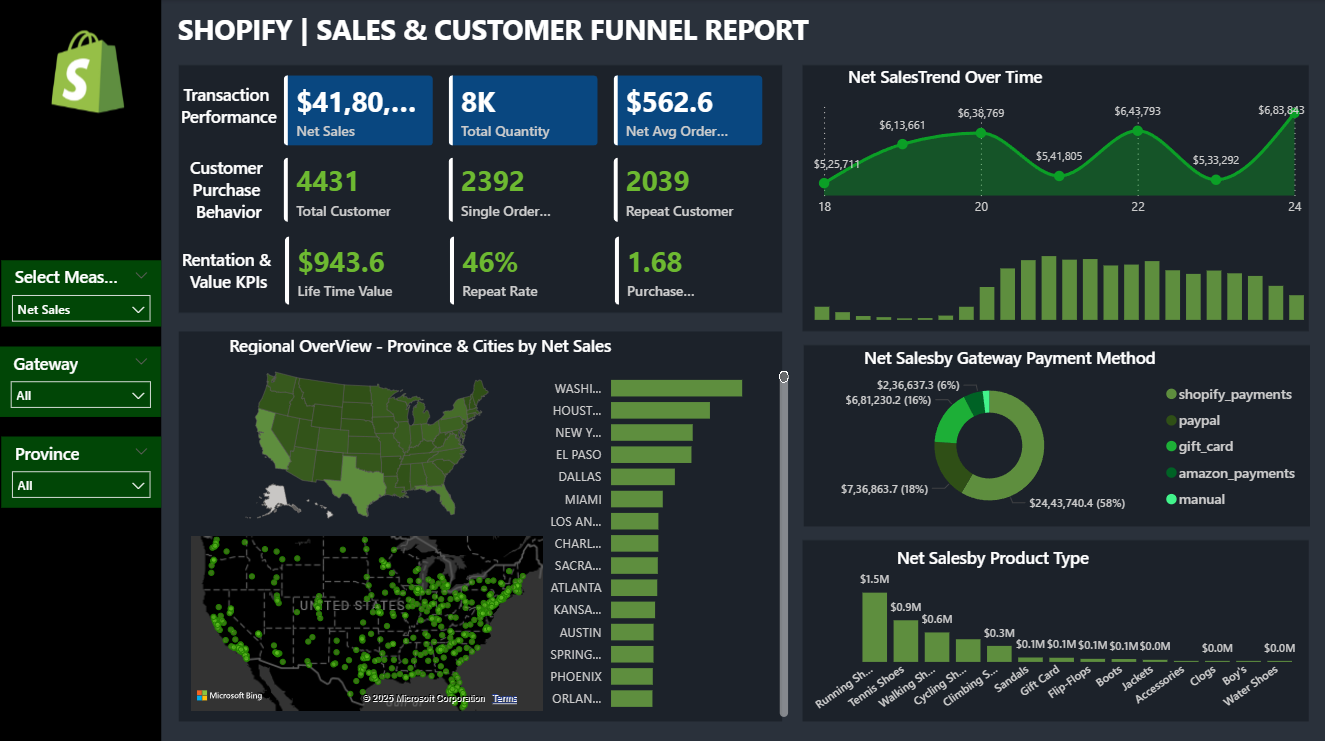

This screenshot's page, from the dashboard's own definition file:
{"tool":"powerbi","page":{"name":"Page 1","canvas":[1280,720],"ordinal":0},"visuals":[{"type":"textbox","box":[166.5,6,824,56.7],"z":0},{"type":"cardVisual","fields":{"Data":["shopify_sales.net sales","shopify_sales.total quantity","shopify_sales.net avg order value"]},"box":[256.8,56.8,498.8,102.5],"z":1000},{"type":"card","fields":{"Values":["shopify_sales.Transaction Performance"]},"box":[166.7,70.4,108.6,65.4],"z":2000},{"type":"cardVisual","fields":{"Data":["shopify_sales.Total Customer","shopify_sales.Single Order Customer","shopify_sales.Repeat Customer"]},"box":[257,136.3,498.3,96.5],"z":3000},{"type":"card","fields":{"Values":["shopify_sales.Customer Purchase Behavior"]},"box":[166.7,135.8,108.6,88.9],"z":4000},{"type":"cardVisual","fields":{"Data":["shopify_sales.Life Time Value","shopify_sales.Repeat Rate","shopify_sales.Purchase Frequency"]},"box":[258.2,212.3,498.3,100.1],"z":5000},{"type":"card","fields":{"Values":["shopify_sales.Rentation & Value KPIs"]},"box":[166.7,227.2,108.6,70.4],"z":6000},{"type":"shapeMap","fields":{"Value":["shopify_sales.Net Sales"],"Category":["shopify_sales.Billing Address Province"]},"box":[180.2,346.9,349.4,166.7],"z":7000},{"type":"slicer","fields":{"Values":["Select Measure.Select Measure"]},"box":[1.2,251.9,154.3,64.2],"z":8000},{"type":"map","fields":{"Category":["shopify_sales.Location"]},"box":[180.2,513.6,349.4,177.8],"z":9000},{"type":"clusteredBarChart","fields":{"Y":["shopify_sales.Net Sales"],"Category":["shopify_sales.CITY"]},"box":[513.6,345.7,251.9,351.9],"z":10000},{"type":"card","fields":{"Values":["shopify_sales.Map Title"]},"box":[180.2,321,451.9,24.7],"z":11000},{"type":"areaChart","fields":{"Y":["shopify_sales.Net Sales"],"Category":["shopify_sales.Invoice Date.Variation.Date Hierarchy.Day"]},"box":[780.2,88.9,484,129.6],"z":12000},{"type":"columnChart","fields":{"Y":["shopify_sales.Net Sales"],"Category":["shopify_sales.Hour"]},"box":[780.2,218.5,484,97.5],"z":13000},{"type":"card","fields":{"Values":["shopify_sales.Trend Title"]},"box":[792.6,63,239.5,25.9],"z":14000},{"type":"donutChart","fields":{"Y":["shopify_sales.Net Sales"],"Category":["shopify_sales.Gateway"]},"box":[780.2,358,484,145.7],"z":15000},{"type":"card","fields":{"Values":["shopify_sales.Gateway Title"]},"box":[792.6,333,364.3,25.3],"z":16000},{"type":"columnChart","fields":{"Y":["shopify_sales.Net Sales"],"Category":["shopify_sales.Product Type"]},"box":[780.2,542,484,154.3],"z":17000},{"type":"card","fields":{"Values":["shopify_sales.Product Title"]},"box":[780.2,527.2,355.6,28.4],"z":18000},{"type":"slicer","fields":{"Values":["shopify_sales.Gateway"]},"box":[0,335.8,155.6,67.9],"z":19000},{"type":"slicer","fields":{"Values":["shopify_sales.Billing Address Province"]},"box":[1.2,422.2,154.3,69.1],"z":20000}]}

Visuals, with their boxes on the page's 1280x720 design canvas (x1, y1, x2, y2). These are canvas units, not pixel positions in the 1325x741 screenshot, which may show the page scaled, cropped or inside an application window:
textbox: detection(166, 6, 990, 63)
cardVisual - shopify_sales.net sales x shopify_sales.total quantity: detection(257, 57, 756, 159)
card - shopify_sales.Transaction Performance: detection(167, 70, 275, 136)
cardVisual - shopify_sales.Total Customer x shopify_sales.Single Order Customer: detection(257, 136, 755, 233)
card - shopify_sales.Customer Purchase Behavior: detection(167, 136, 275, 225)
cardVisual - shopify_sales.Life Time Value x shopify_sales.Repeat Rate: detection(258, 212, 756, 312)
card - shopify_sales.Rentation & Value KPIs: detection(167, 227, 275, 298)
shapeMap - shopify_sales.Net Sales x shopify_sales.Billing Address Province: detection(180, 347, 530, 514)
slicer - Select Measure.Select Measure: detection(1, 252, 156, 316)
map - shopify_sales.Location: detection(180, 514, 530, 691)
clusteredBarChart - shopify_sales.Net Sales x shopify_sales.CITY: detection(514, 346, 766, 698)
card - shopify_sales.Map Title: detection(180, 321, 632, 346)
areaChart - shopify_sales.Net Sales x shopify_sales.Invoice Date.Variation.Date Hierarchy.Day: detection(780, 89, 1264, 218)
columnChart - shopify_sales.Net Sales x shopify_sales.Hour: detection(780, 218, 1264, 316)
card - shopify_sales.Trend Title: detection(793, 63, 1032, 89)
donutChart - shopify_sales.Net Sales x shopify_sales.Gateway: detection(780, 358, 1264, 504)
card - shopify_sales.Gateway Title: detection(793, 333, 1157, 358)
columnChart - shopify_sales.Net Sales x shopify_sales.Product Type: detection(780, 542, 1264, 696)
card - shopify_sales.Product Title: detection(780, 527, 1136, 556)
slicer - shopify_sales.Gateway: detection(0, 336, 156, 404)
slicer - shopify_sales.Billing Address Province: detection(1, 422, 156, 491)
